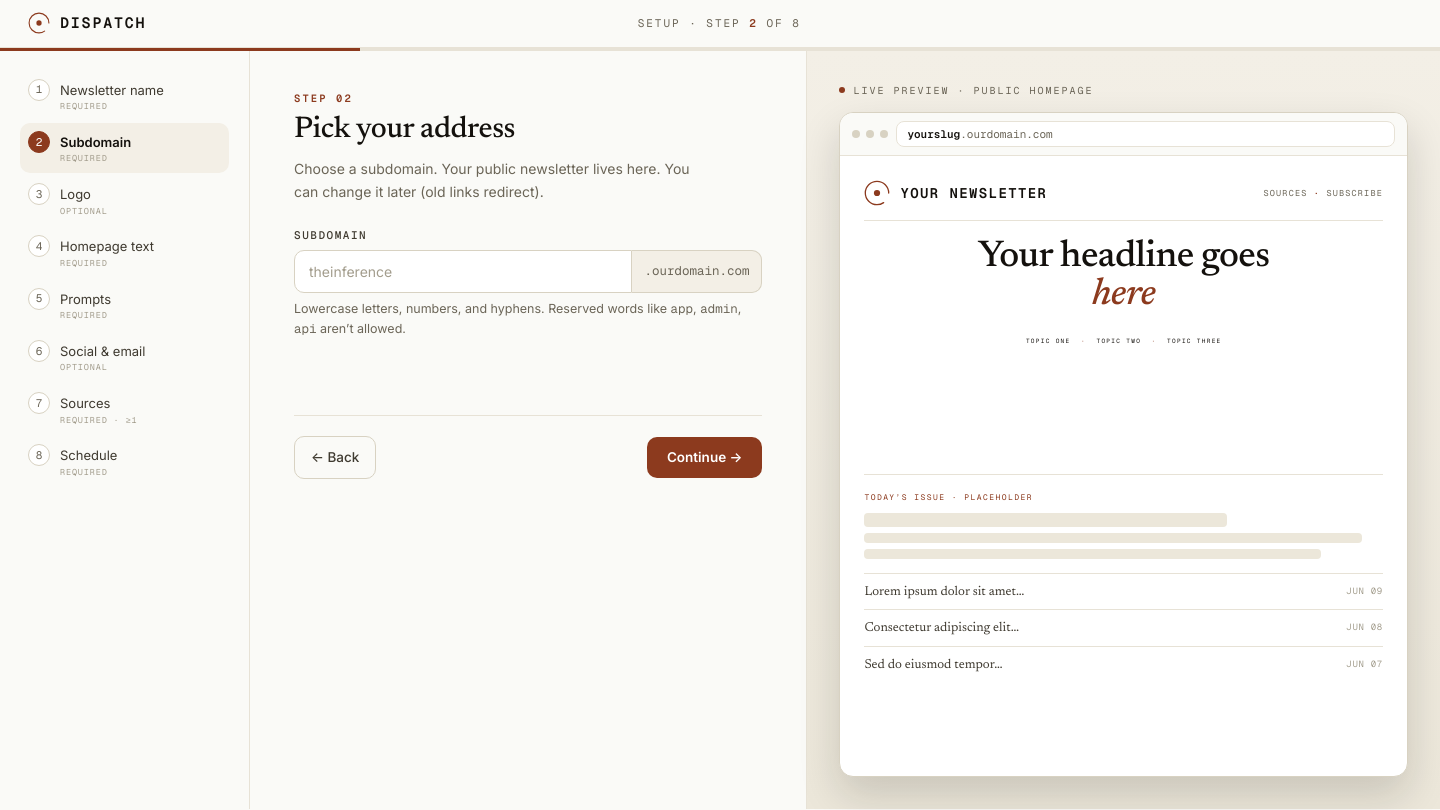
Test: test_REQ_033_slug_states (UI) › reports a reserved slug
The image size is (1440, 810).
Expected: the heading "Pick your address" is shown, [294,115,515,145]
Type "candidate" into the field labelled "Subdomain" at (463, 271), box [294,250,632,293]
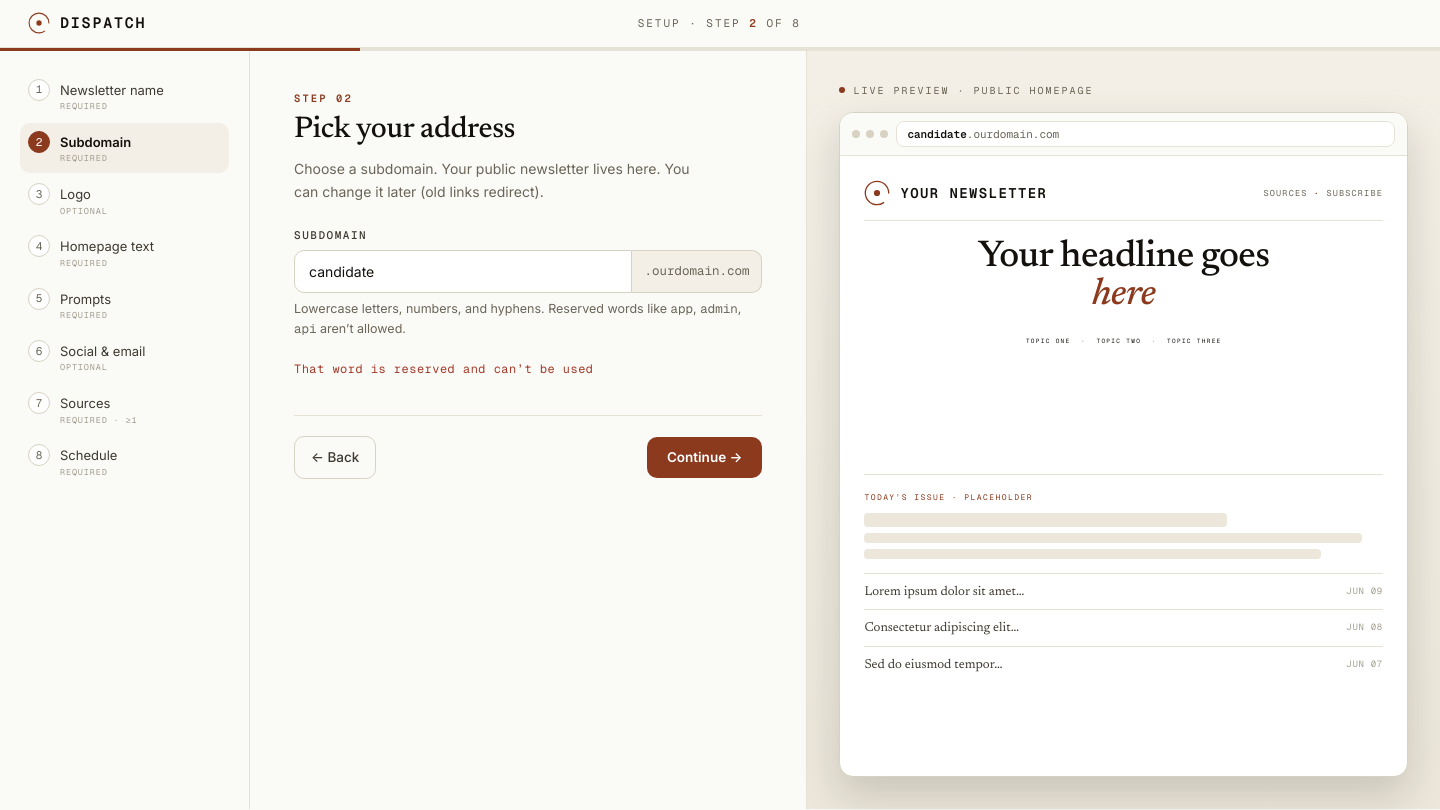
Result: the text "That word is reserved and can’t be used" is shown at [294,361,594,377]
